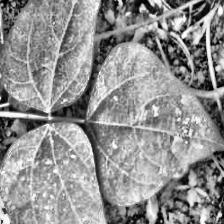ALS: (102, 41, 208, 214), (0, 124, 123, 224), (3, 0, 108, 112)
